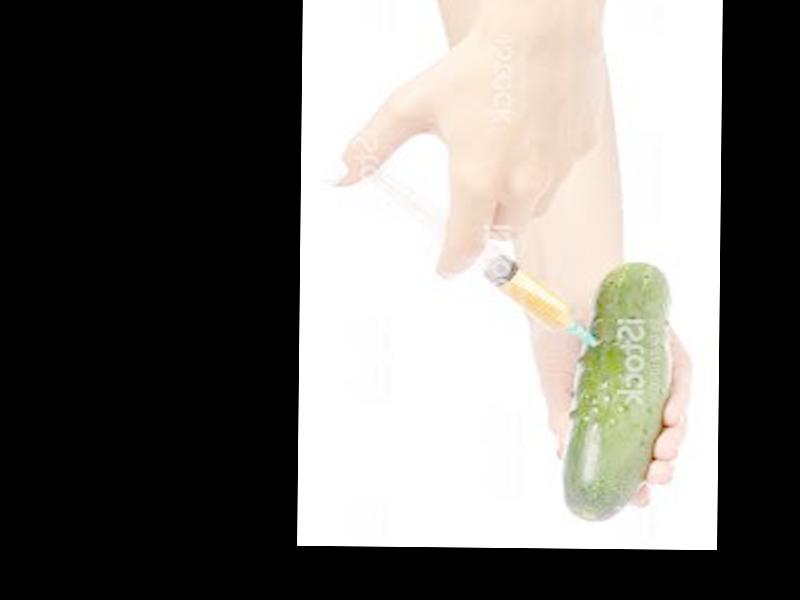Cucumber: (563, 262, 665, 524)
